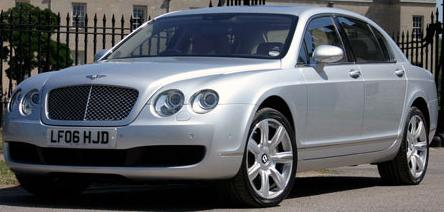front_view: (2, 77, 245, 178)
headlight: (145, 84, 225, 123)
side_glass: (294, 11, 399, 72)
